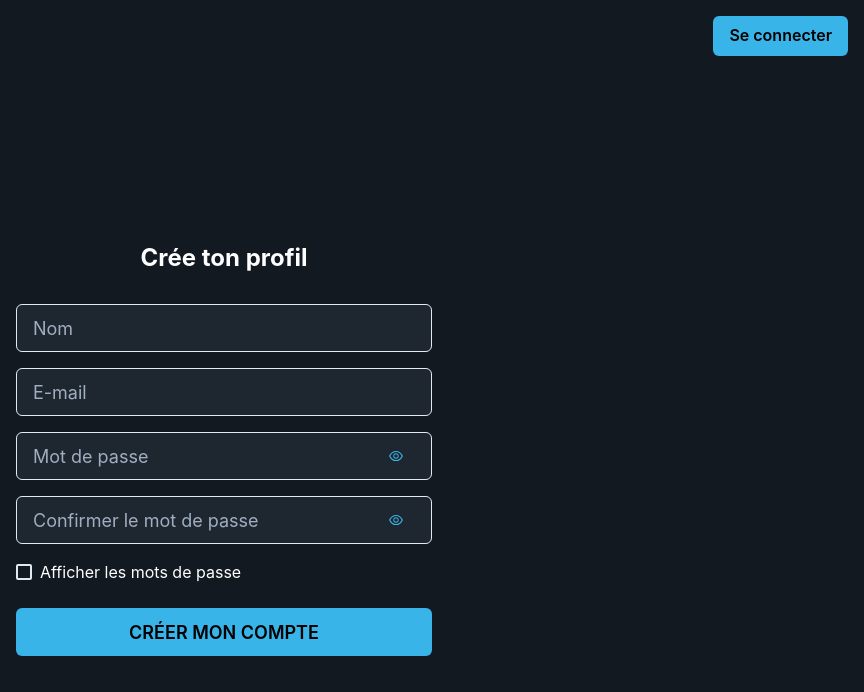
Scenario: Register › Password Validation › clears password error when validation passes
This screenshot has width=864, height=692.
Note: First trigger an error
Type "John Doe" into the field with placeholder "Nom" at (224, 328), box [16, 304, 432, 352]
Type "john@example.com" into the field with placeholder "E-mail" at (224, 392), box [16, 368, 432, 416]
Type "123" into the password field with placeholder "Mot de passe" at (224, 456), box [16, 432, 432, 480]
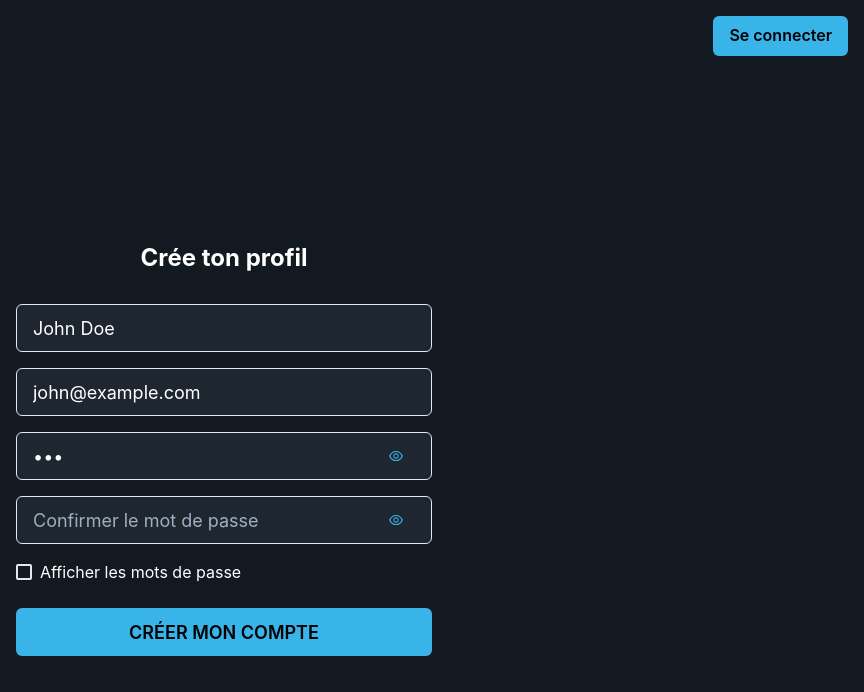
Type "123" into the password field with placeholder "Confirmer le mot de passe" at (224, 520), box [16, 496, 432, 544]
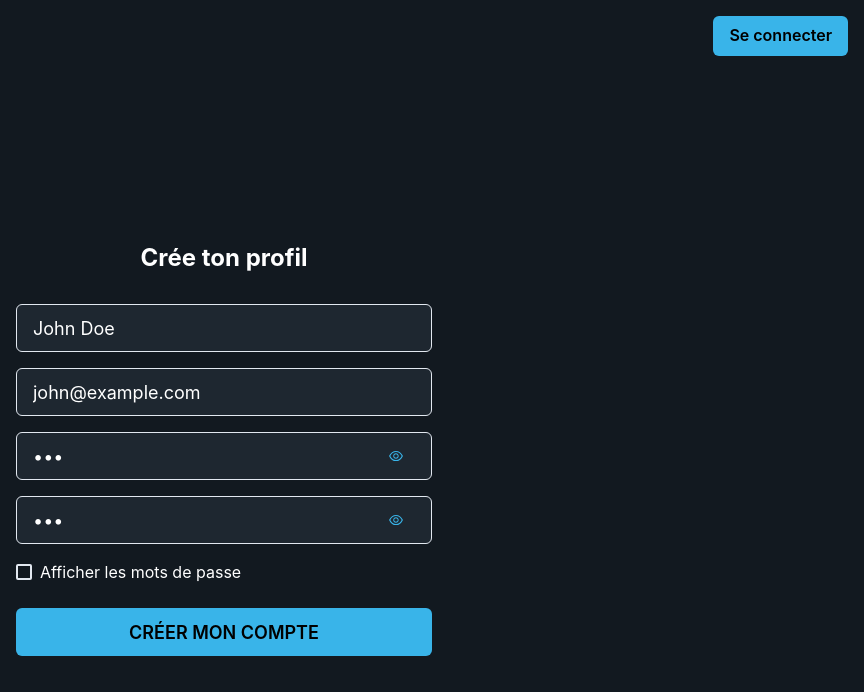
Click the button "CRÉER MON COMPTE" at (224, 632), box [16, 608, 432, 656]
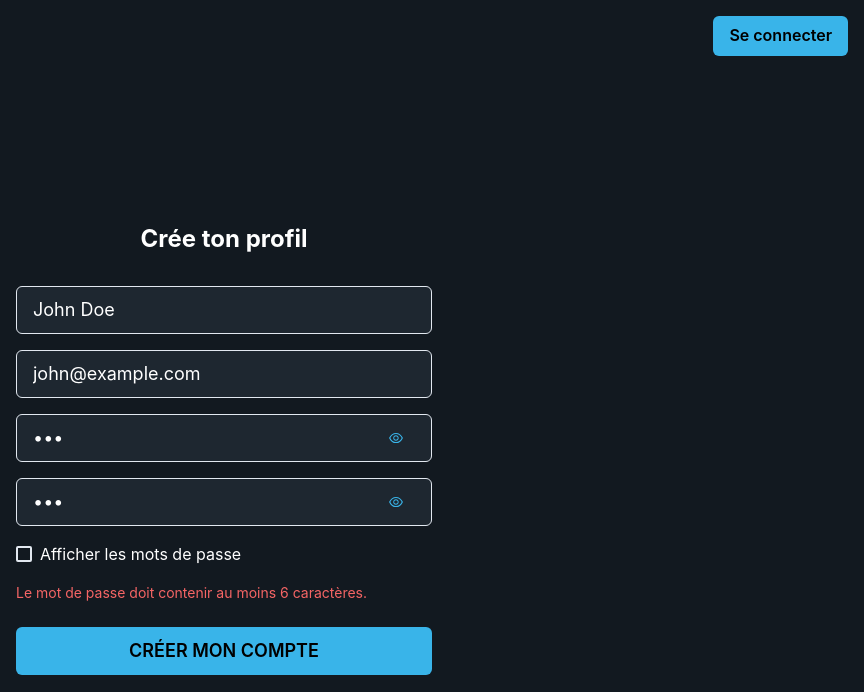
Expected: the text "Le mot de passe doit contenir au moins 6 caractères." is shown, [16, 582, 367, 603]
Note: Now fix the error
Type "password123" into the 1st password field with placeholder "Mot de passe" at (224, 438), box [16, 414, 432, 462]
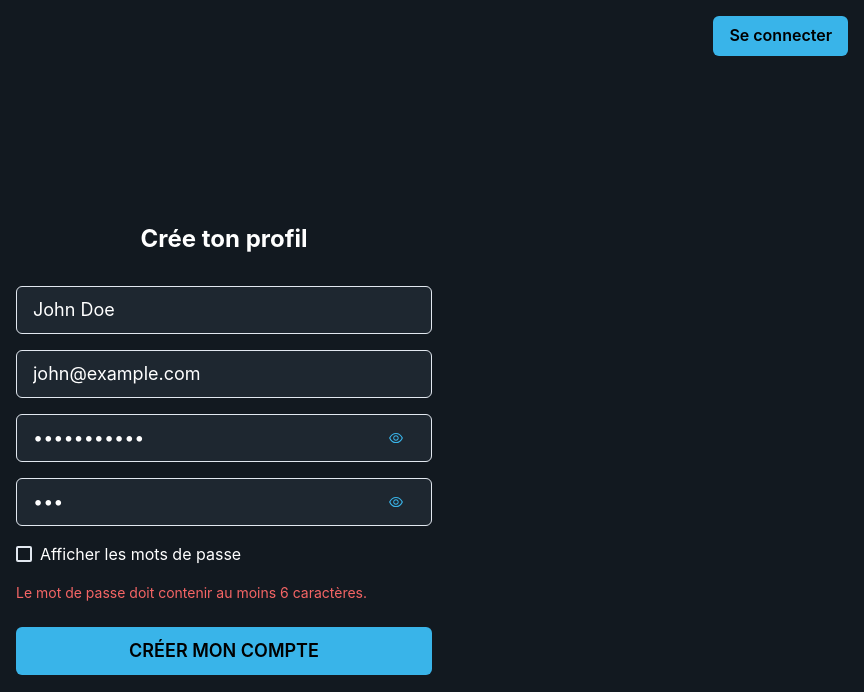
Type "password123" into the 2nd password field with placeholder "Confirmer le mot de passe" at (224, 502), box [16, 478, 432, 526]
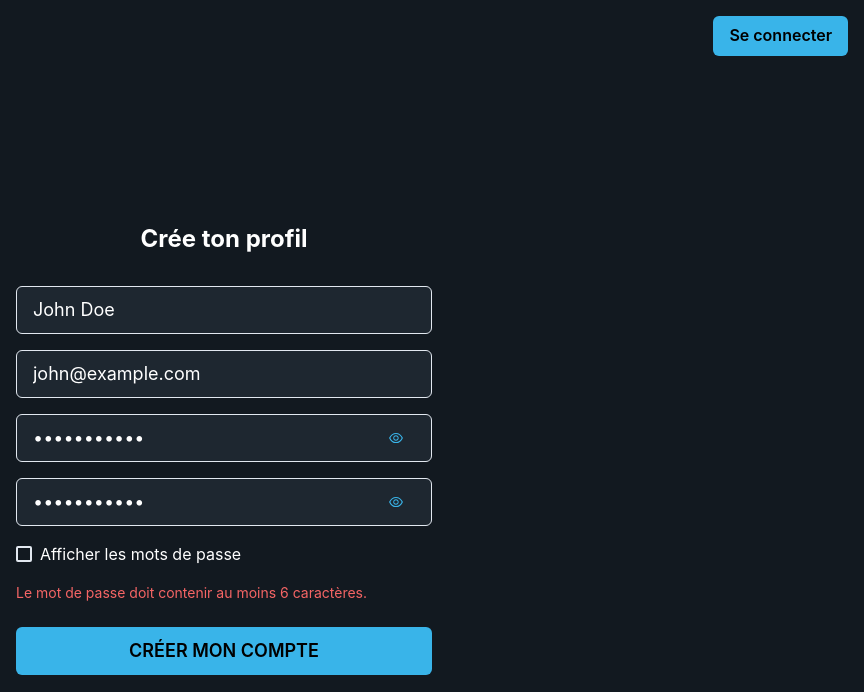
Click the button "CRÉER MON COMPTE" at (224, 651), box [16, 627, 432, 675]
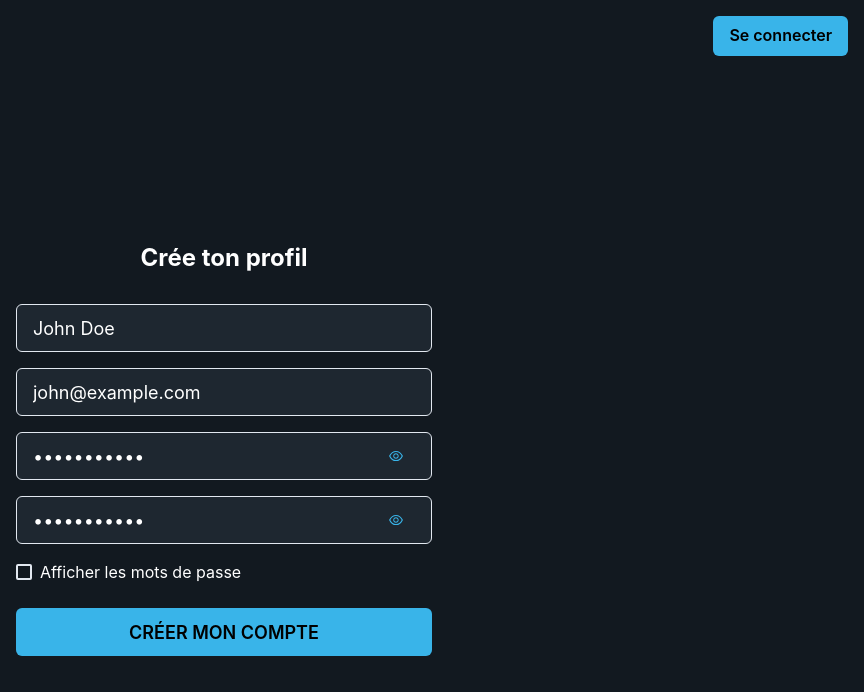
Expected: the text "Le mot de passe doit contenir au moins 6 caractères." is gone
